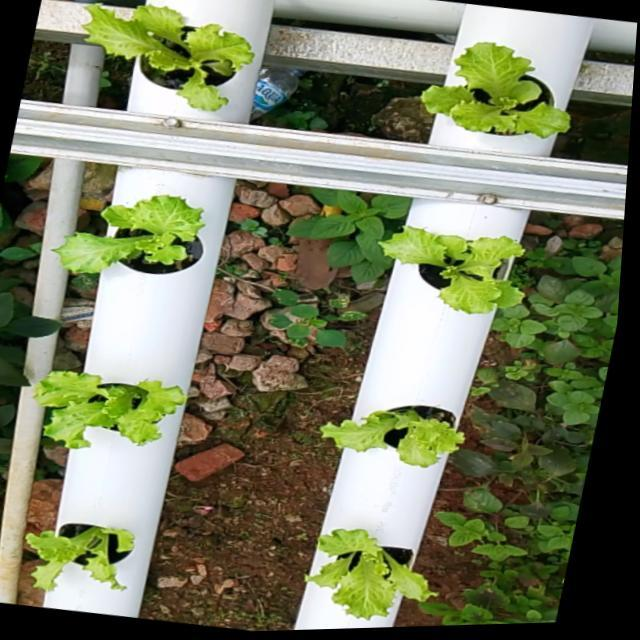Baby: (79, 2, 252, 110), (422, 36, 573, 150), (377, 220, 527, 310), (59, 188, 211, 268), (40, 363, 193, 441), (309, 521, 441, 610), (325, 398, 469, 460), (32, 514, 140, 580)
